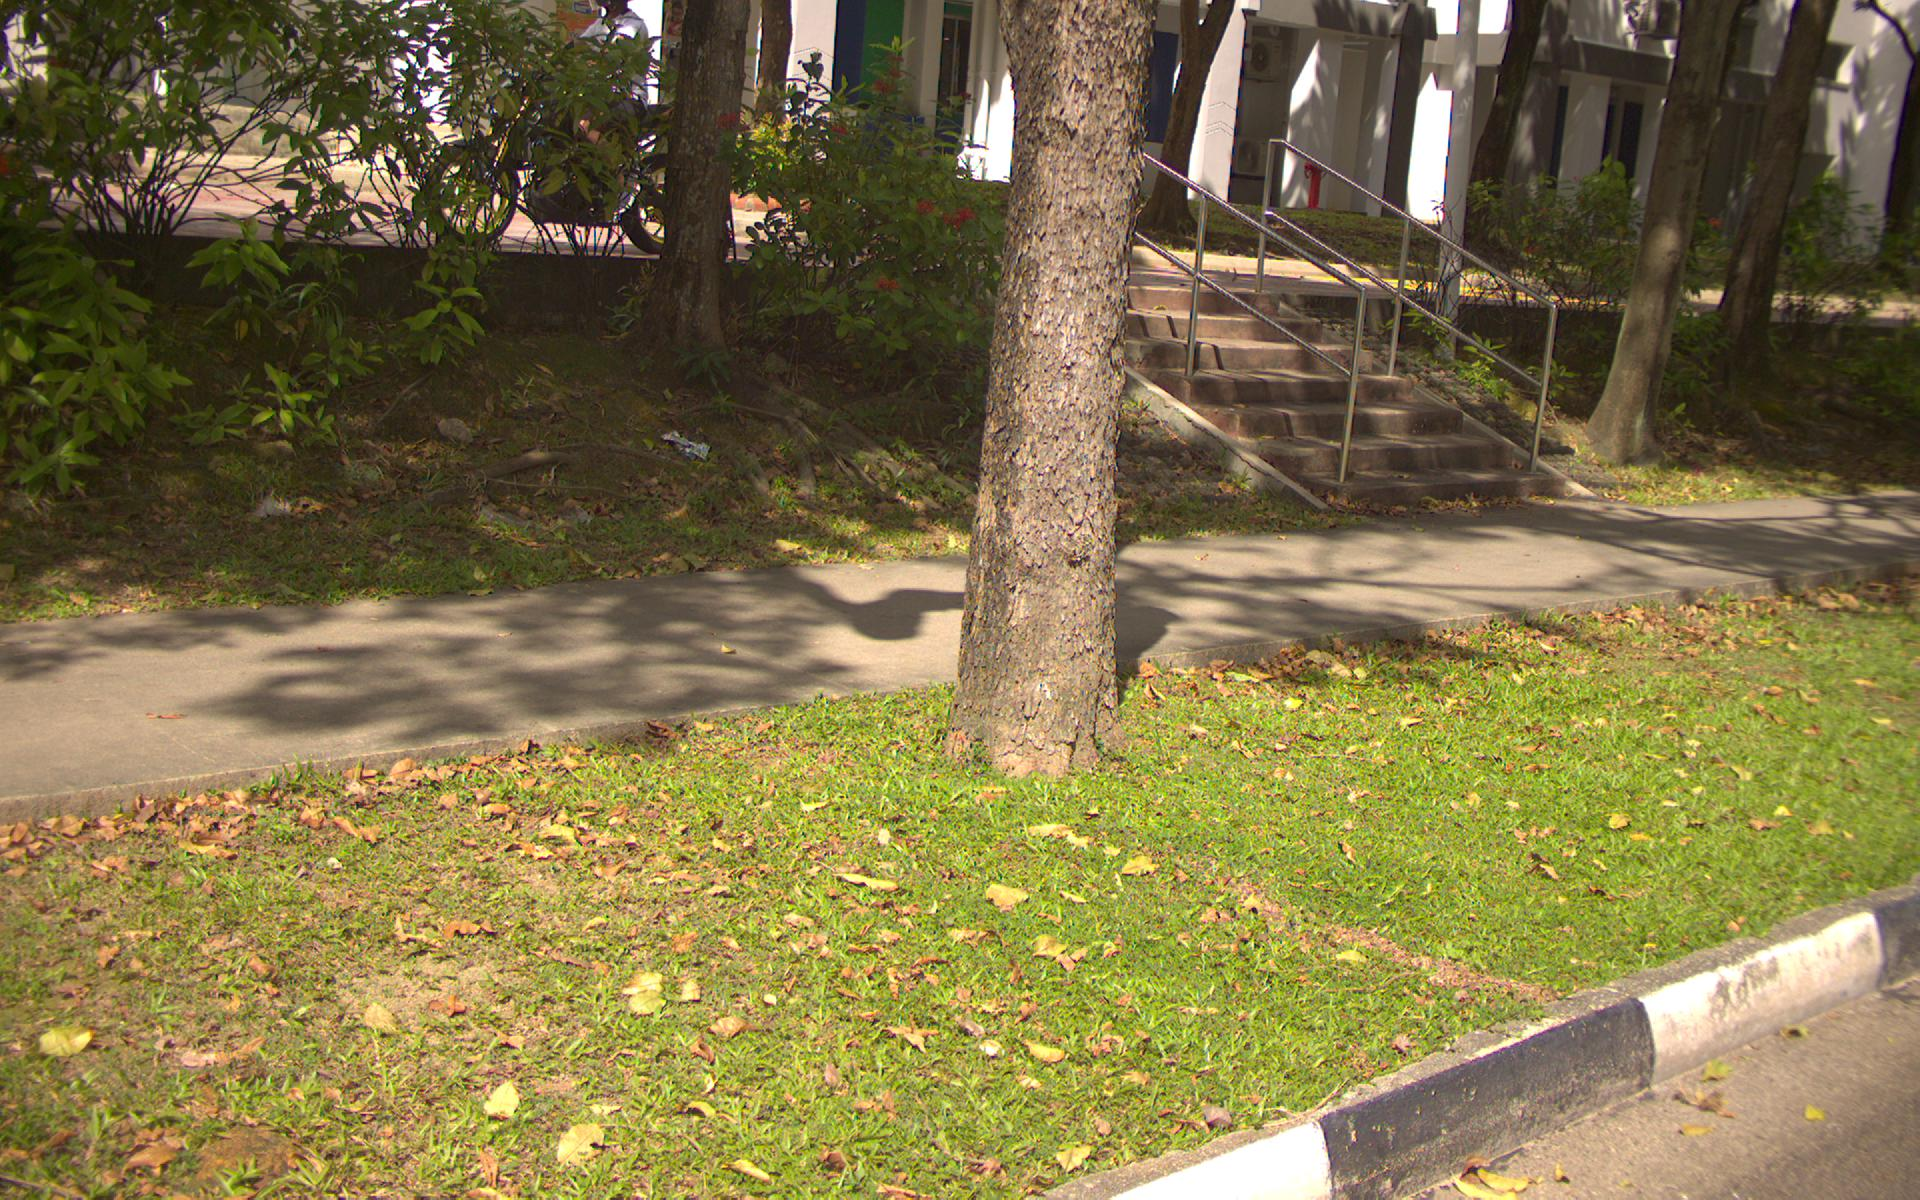pathway_low: (4, 628, 582, 758), (753, 568, 1230, 647)
road_turf_low: (4, 832, 991, 1200), (1192, 653, 1920, 879)
